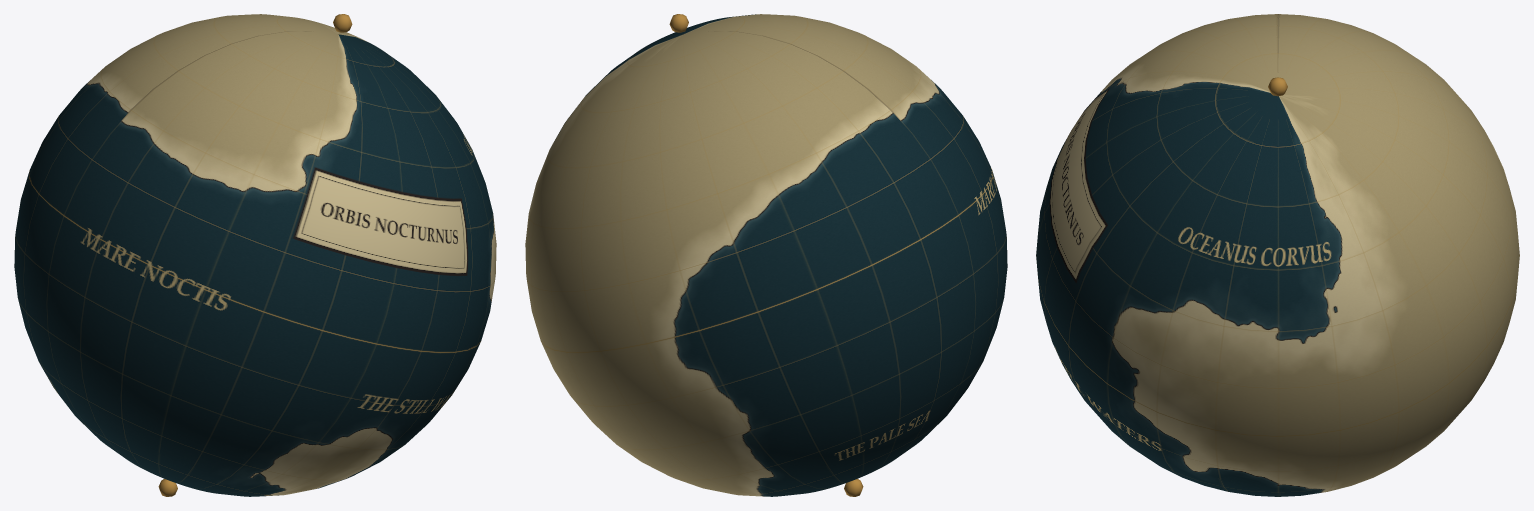
The model's file is TerrestrialGlobeSphere.fbx.
3 views of the same model, side by side, from view 1: azimuth 30°, elevation 25°; view 2: azimuth 150°, elevation 25°; view 3: azimuth 270°, elevation 25° (orthographic).
Visible parts, largest first — view 1: TerrestrialGlobe_Globe; view 2: TerrestrialGlobe_Globe; view 3: TerrestrialGlobe_Globe.
Boxes of the visible parts, x1,y1,x2,y2 form: TerrestrialGlobe_Globe: (14, 14, 496, 496); TerrestrialGlobe_Globe: (525, 14, 1007, 496); TerrestrialGlobe_Globe: (1036, 14, 1519, 496).
Size of the model in its own units: 240 by 241 by 240.
